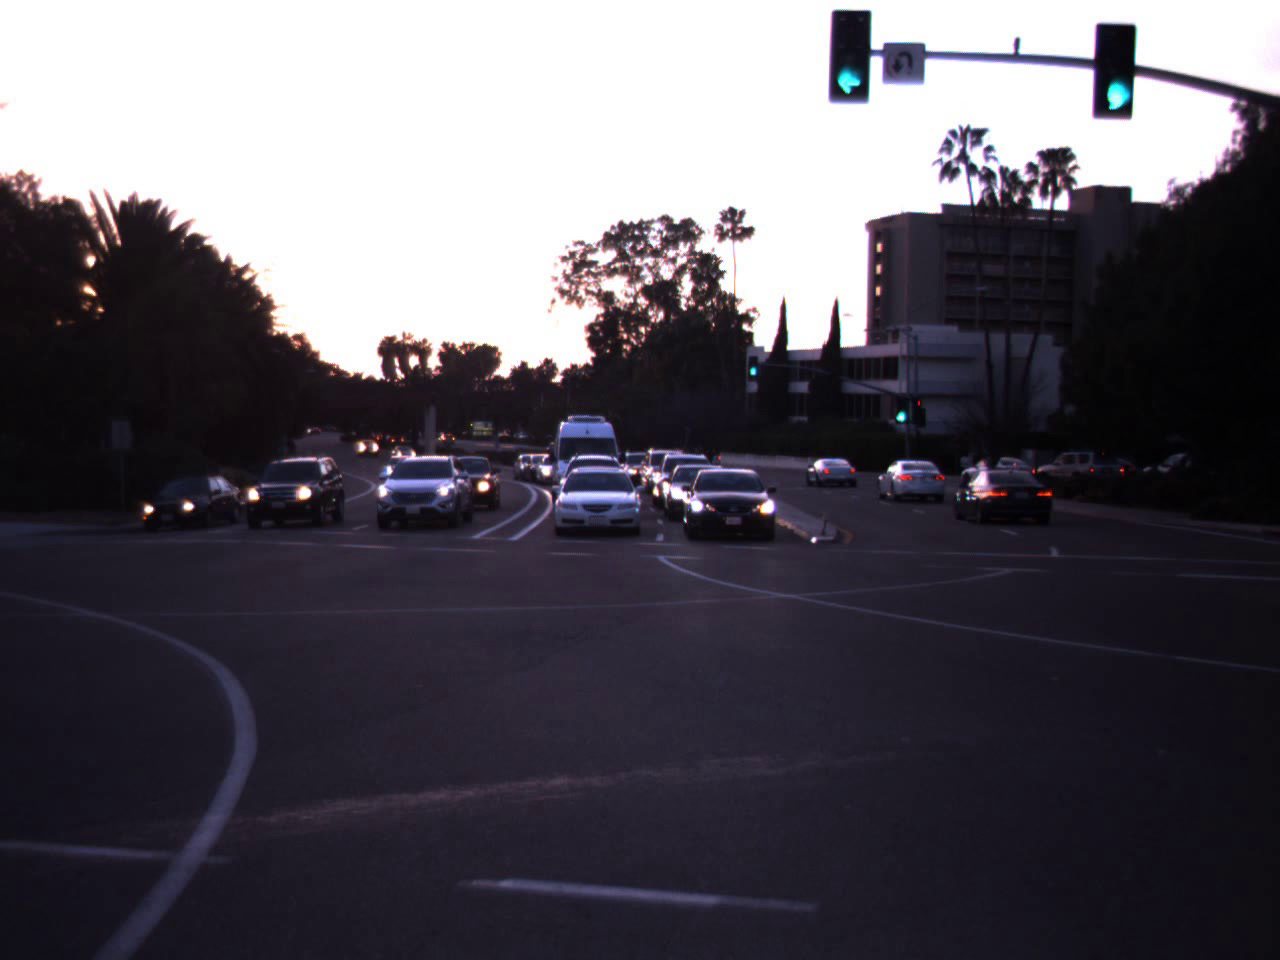go: (806, 0, 893, 110), (1089, 0, 1148, 122), (889, 380, 913, 425), (746, 350, 761, 375)
